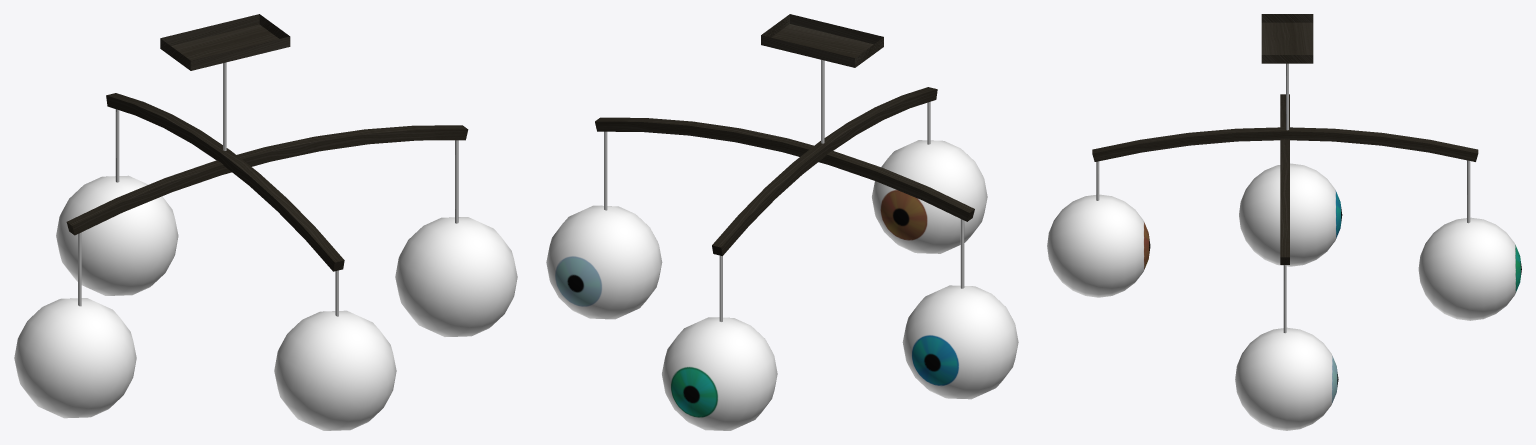
The model's file is Eye sculpture.fbx.
3 views of the same model, side by side, from view 1: azimuth 30°, elevation 25°; view 2: azimuth 150°, elevation 25°; view 3: azimuth 270°, elevation 25° (orthographic). The views are drawn at different scales.
Parts seen in each view (by area): view 1: Eye04, Eye03, Eye01, Wood_hanger, Eye02, Ceiling_base; view 2: Eye01, Eye02, Eye03, Wood_hanger, Eye04, Ceiling_base; view 3: Eye04, Eye03, Eye02, Eye01, Wood_hanger, Ceiling_base.
Part boxes in pixels (x1,y1,x2,y2): Eye04: (274,310,396,430); Eye03: (395,217,517,336); Eye01: (14,298,136,418); Wood_hanger: (66,93,468,271); Eye02: (56,175,178,295); Ceiling_base: (160,14,290,70); Eye01: (902,285,1018,399); Eye02: (662,317,777,430); Eye03: (546,205,662,319); Wood_hanger: (595,87,974,255); Eye04: (872,140,987,253); Ceiling_base: (761,14,883,67); Eye04: (1047,194,1150,297); Eye03: (1235,327,1338,430); Eye02: (1418,217,1521,320); Eye01: (1239,163,1342,266); Wood_hanger: (1092,94,1478,264); Ceiling_base: (1261,14,1313,63).
Bounding box in the file's own units: 186 × 129 × 187.
